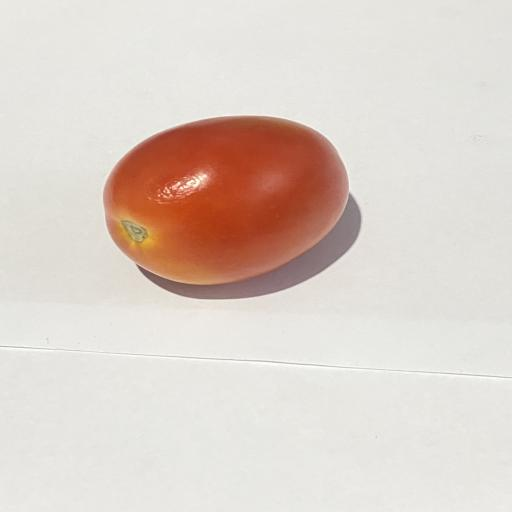ripe: (103, 116, 348, 285)
